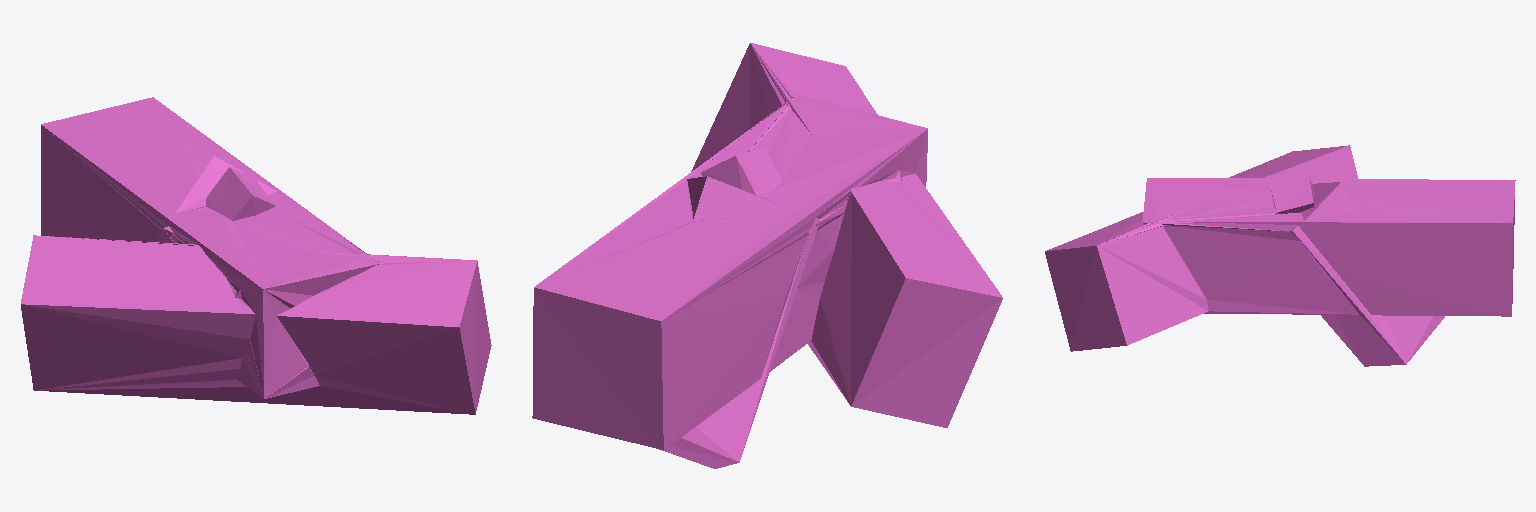
robot.urdf — blob565:

<robot name="blob565">
  <link name="random_obj_565">
    <contact>
      <lateral_friction value="1.0"/>
      <rolling_friction value="0.0"/>
      <inertia_scaling value="3.0"/>
      <contact_cfm value="0.0"/>
      <contact_erp value="1.0"/>
    </contact>
    <inertial>
      <origin rpy="0 0 0" xyz="0 0 0"/>
      <mass value="0.0812"/>
      <inertia ixx="1" ixy="0" ixz="0" iyy="1" iyz="0" izz="0"/>
    </inertial>
    <visual>
      <origin rpy="0 0 0" xyz="0 0 0"/>
      <geometry>
        <mesh filename="565.obj" scale="0.0079 0.0079 0.0079"/>
      </geometry>
      <material name="blockmat">
        <color rgba="0.91 0.48 0.84 1"/>
      </material>
    </visual>
    <collision>
      <origin rpy="0 0 0" xyz="0 0 0"/>
      <geometry>
        <mesh filename="565_coll.obj" scale="0.0079 0.0079 0.0079"/>
      </geometry>
    </collision>
  </link>
</robot>

--- What the picture shows (computed from the rendered views, not written in the file) ---
3 views of the same robot in one strip: view 1: azimuth 30°, elevation 25°; view 2: azimuth 150°, elevation 25°; view 3: azimuth 270°, elevation 25° (orthographic).
Model blob565 with 1 links and 0 joints (none), rooted at random_obj_565, posed every joint at zero.
Visible links, largest first — view 1: random_obj_565; view 2: random_obj_565; view 3: random_obj_565.
Link boxes in pixels (x1=…): random_obj_565: x1=21, y1=97, x2=491, y2=414; random_obj_565: x1=532, y1=43, x2=1002, y2=468; random_obj_565: x1=1045, y1=145, x2=1515, y2=366.
Size in the robot's own frame: 0.0903 by 0.1219 by 0.0561 metres.
1 mesh visuals loaded from 1 distinct referenced files (1 OBJ).
